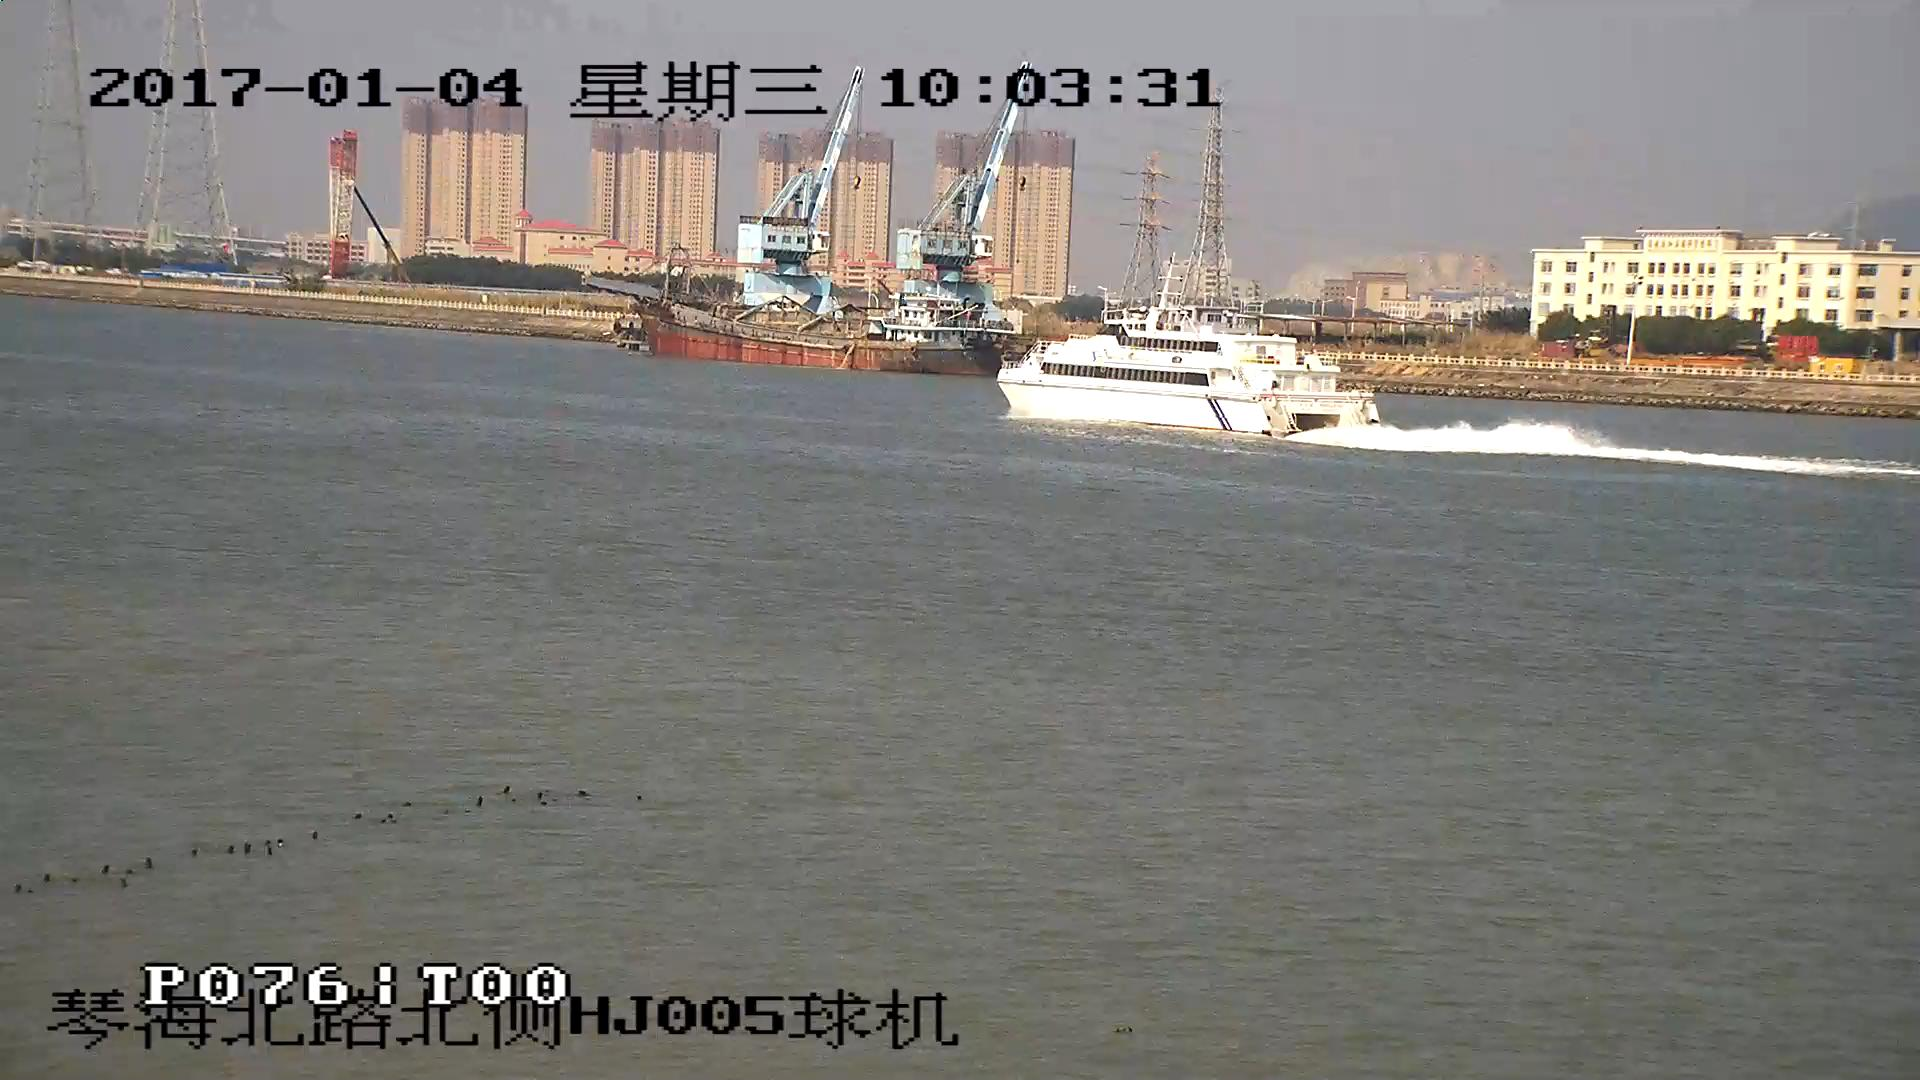passenger ship: (998, 246, 1382, 448)
